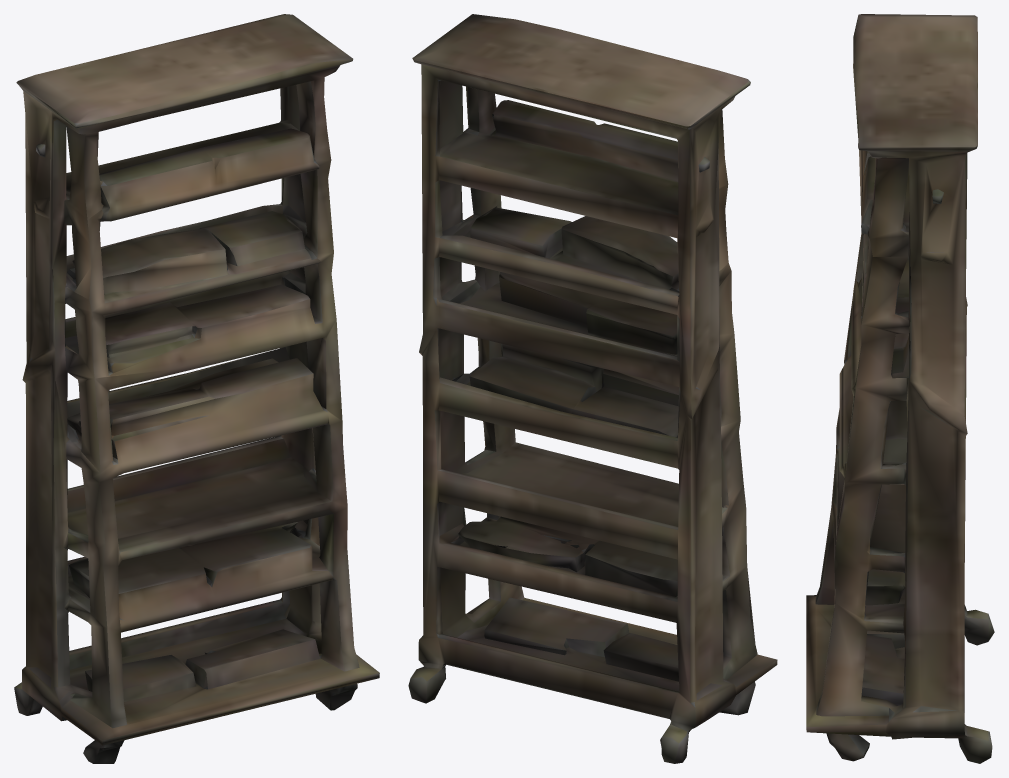
File: ancient-wood-bookcase-v001.glb
3 views of the same model, side by side, from view 1: azimuth 30°, elevation 25°; view 2: azimuth 150°, elevation 25°; view 3: azimuth 270°, elevation 25° (orthographic). The views are drawn at different scales.
Visible parts, largest first — view 1: ancient-wood-bookcase; view 2: ancient-wood-bookcase; view 3: ancient-wood-bookcase.
Part boxes in pixels (x1,y1,x2,y2): ancient-wood-bookcase: (14, 14, 379, 763); ancient-wood-bookcase: (408, 14, 777, 763); ancient-wood-bookcase: (806, 14, 994, 763).
Bounding box in the file's own units: 0.8252 × 1.83 × 0.4964.
Materials: 1 (1 with a texture image).
